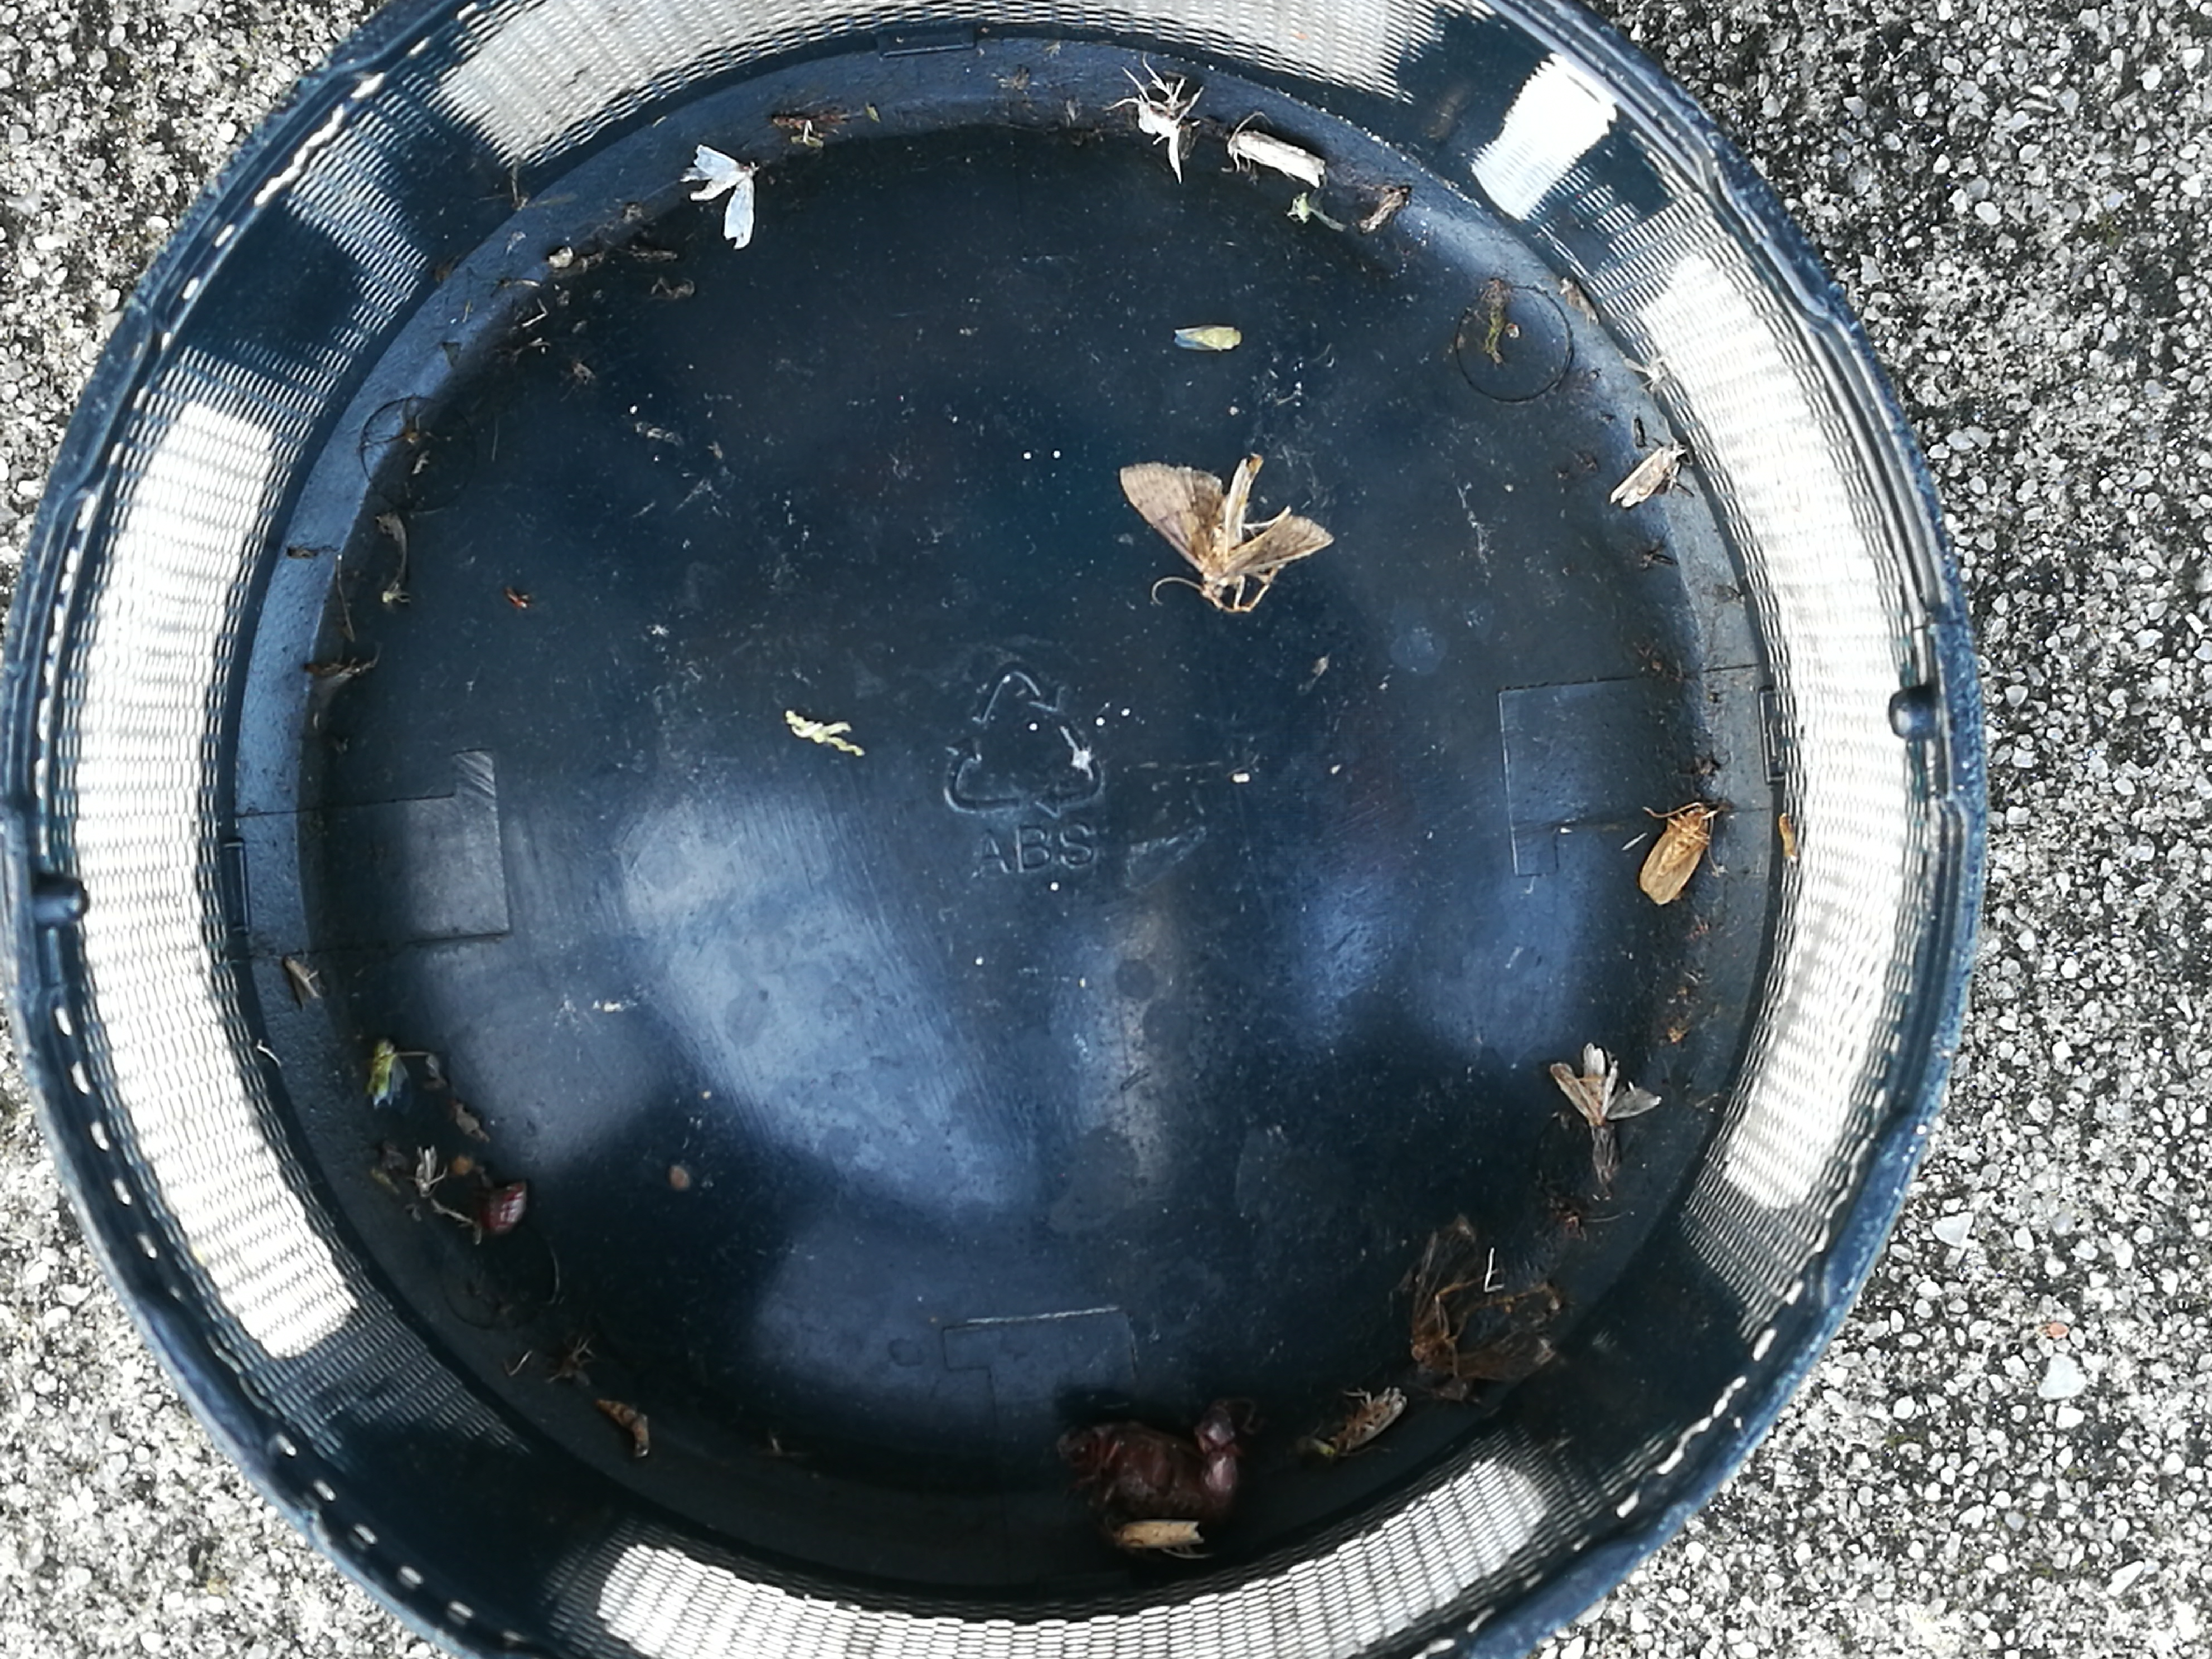beetle: (1057, 1420, 1200, 1520), (1200, 1408, 1235, 1523)
mosquito: (1228, 131, 1325, 190), (1608, 441, 1683, 509), (1329, 1387, 1407, 1450), (1116, 1520, 1200, 1551)
moth: (1118, 451, 1336, 596), (1411, 1227, 1541, 1384), (1550, 1044, 1660, 1129), (679, 146, 758, 251), (1639, 802, 1710, 904)
